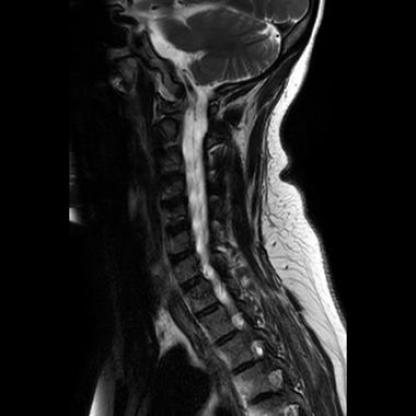Disc Bulgerotation: (166, 245, 198, 264), (160, 194, 190, 212), (158, 169, 188, 185), (163, 221, 193, 236)
